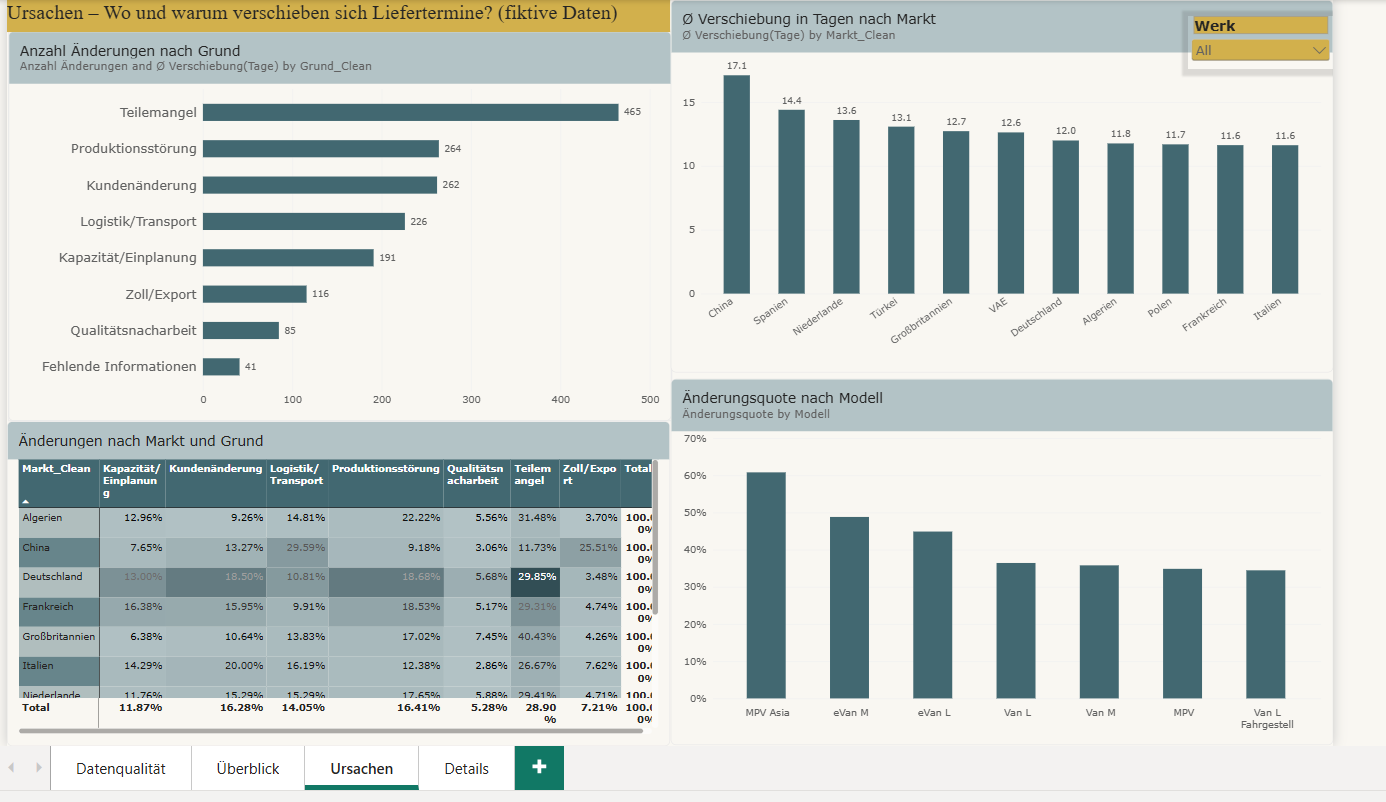

What the dashboard file says about the page in this screenshot:
{"tool":"powerbi","page":{"name":"Ursachen","canvas":[1920,1080],"ordinal":2},"visuals":[{"type":"clusteredBarChart","title":"Anzahl Änderungen nach Grund","fields":{"Category":["Terminaenderungen.Grund_Clean"],"Y":["Terminaenderungen.Anzahl Änderungen"]},"box":[2,46,960,564],"z":0},{"type":"clusteredColumnChart","title":"Ø Verschiebung in Tagen nach Markt","fields":{"Category":["Auftraege.Markt_Clean"],"Y":["Terminaenderungen.Ø Verschiebung(Tage)"]},"box":[960.9,0,959.1,539.3],"z":1000},{"type":"pivotTable","title":"Änderungen nach Markt und Grund","fields":{"Columns":["Terminaenderungen.Grund_Clean"],"Rows":["Auftraege.Markt_Clean"],"Values":["Terminaenderungen.Anzahl Änderungen"]},"box":[0,610,960,470],"z":2000},{"type":"clusteredColumnChart","title":"Änderungsquote nach Modell","fields":{"Category":["Auftraege.Modell"],"Y":["Terminaenderungen.Änderungsquote"]},"box":[961,548,959,530],"z":3000},{"type":"slicer","fields":{"Values":["Auftraege.Werk"]},"box":[1710,24,210,76.7],"z":4000},{"type":"textbox","title":"Ursachen – Wo und warum verschieben sich Liefertermine? (fiktive Daten)","box":[0,0,960,46],"z":5000}]}

Visuals, with their boxes on the page's 1920x1080 design canvas (x1, y1, x2, y2). These are canvas units, not pixel positions in the 1386x802 screenshot, which may show the page scaled, cropped or inside an application window:
"Anzahl Änderungen nach Grund" clusteredBarChart: detection(2, 46, 962, 610)
"Ø Verschiebung in Tagen nach Markt" clusteredColumnChart: detection(961, 0, 1920, 539)
"Änderungen nach Markt und Grund" pivotTable: detection(0, 610, 960, 1080)
"Änderungsquote nach Modell" clusteredColumnChart: detection(961, 548, 1920, 1078)
slicer - Auftraege.Werk: detection(1710, 24, 1920, 101)
"Ursachen – Wo und warum verschieben sich Liefertermine? (fiktive Daten)" textbox: detection(0, 0, 960, 46)
